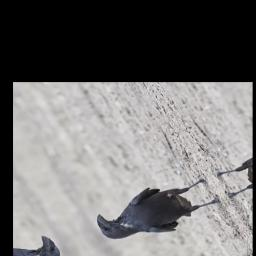Crow: (87, 167, 228, 255)
